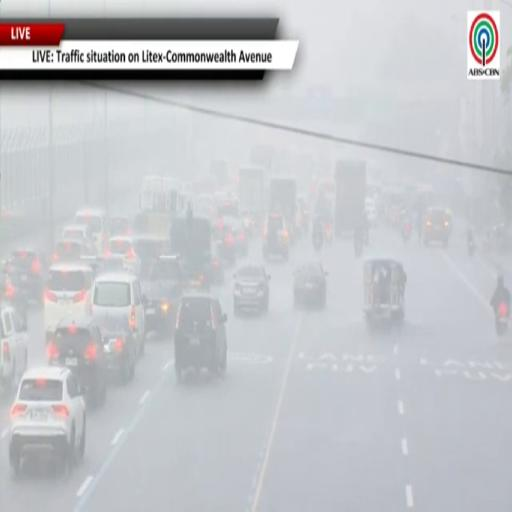car: (9, 367, 86, 476), (47, 316, 107, 407), (90, 272, 145, 355), (174, 295, 227, 381), (44, 263, 93, 341), (141, 255, 188, 334), (96, 315, 137, 383), (0, 308, 28, 389), (9, 249, 47, 305), (233, 265, 270, 314), (0, 264, 28, 327), (75, 208, 109, 253), (134, 235, 169, 278), (294, 263, 327, 308), (218, 217, 248, 263), (104, 236, 140, 274), (263, 214, 290, 260), (423, 207, 451, 246), (52, 239, 95, 263), (215, 218, 237, 264), (61, 224, 95, 253), (232, 219, 248, 257), (211, 243, 224, 285), (108, 215, 132, 237), (216, 197, 238, 217), (365, 198, 377, 225)
motorcycle: (496, 302, 509, 335), (312, 231, 323, 251), (402, 222, 411, 242), (355, 239, 363, 258), (325, 223, 332, 244), (468, 238, 475, 257)
truck: (170, 204, 212, 290), (134, 176, 185, 236), (334, 159, 366, 236), (239, 165, 266, 221), (269, 178, 297, 228), (250, 144, 275, 170), (210, 159, 228, 186)
